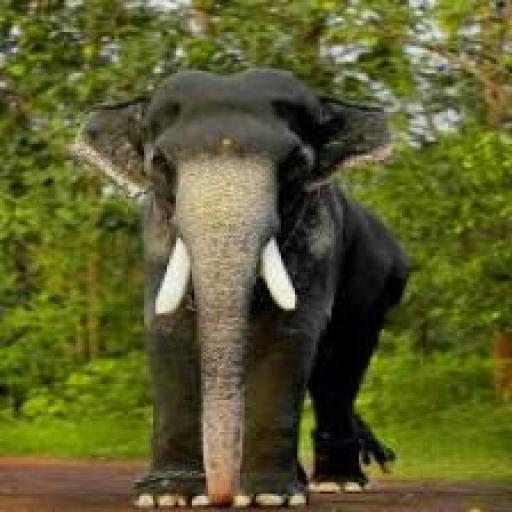Elephant: (41, 68, 441, 512)
